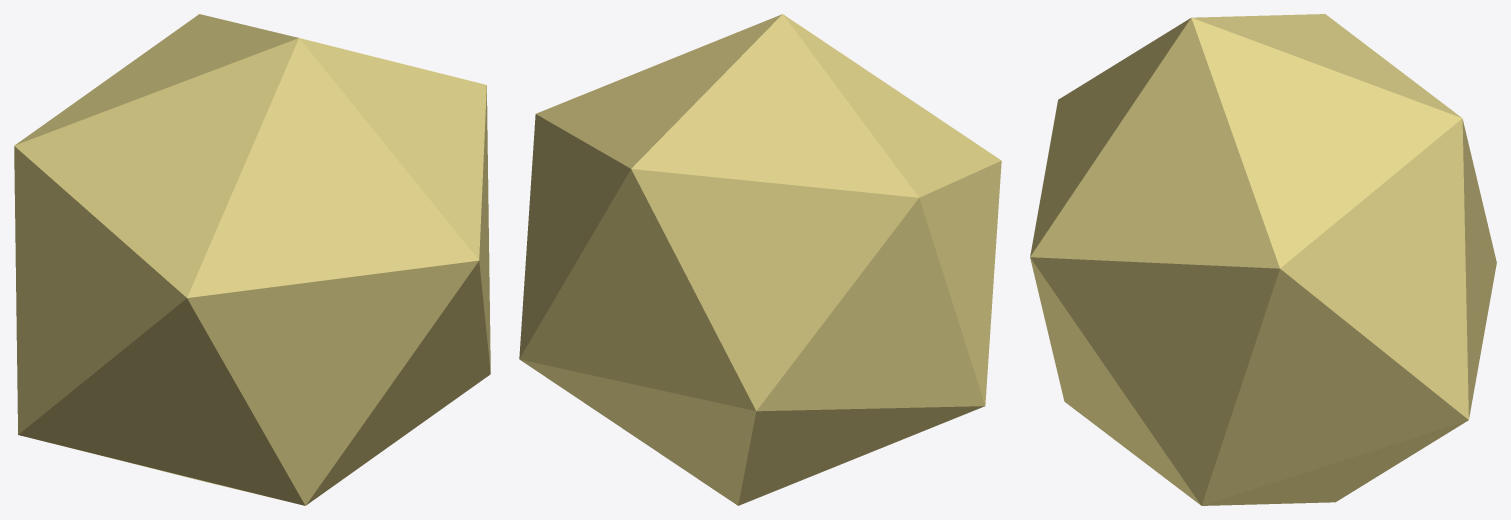
The model's file is gold_ore.glb.
3 renders of one model, left to right at view 1: azimuth 30°, elevation 25°; view 2: azimuth 150°, elevation 25°; view 3: azimuth 270°, elevation 25°, orthographic. The views are drawn at different scales.
Visible parts, largest first — view 1: gold_ore; view 2: gold_ore; view 3: gold_ore.
Boxes of the visible parts, x1,y1,x2,y2 form: gold_ore: (14, 14, 490, 505); gold_ore: (519, 14, 1001, 505); gold_ore: (1030, 14, 1496, 505).
Bounding box in the file's own units: 0.1438 × 0.1391 × 0.1188.
